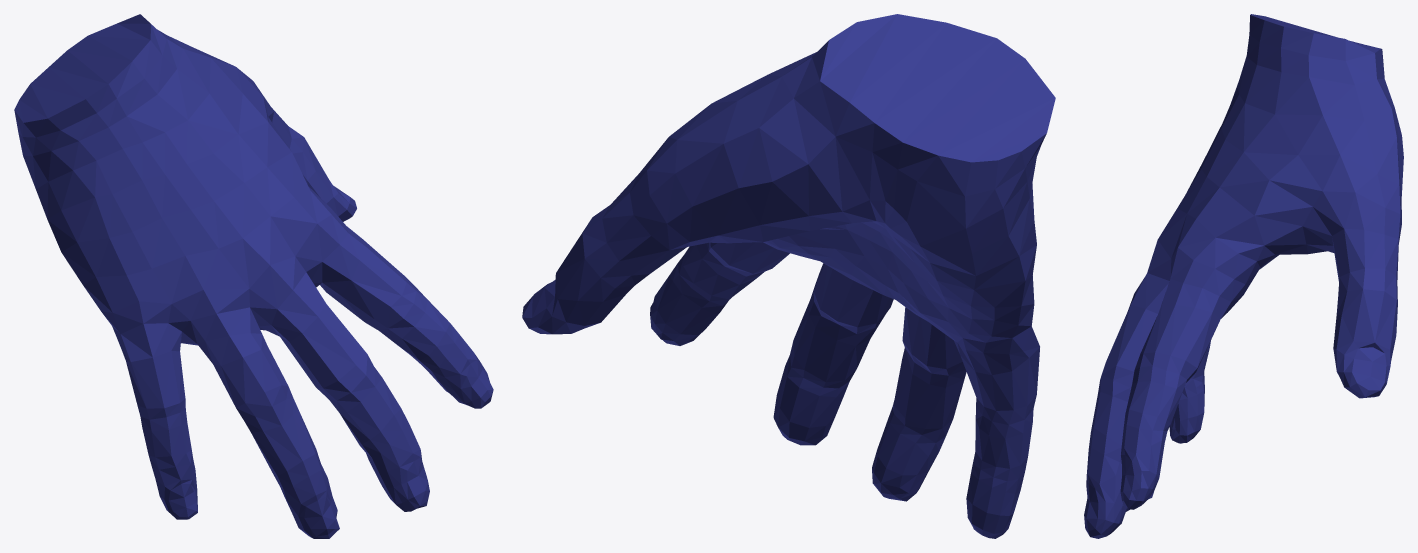
3 renders of one model, left to right at view 1: azimuth 30°, elevation 25°; view 2: azimuth 150°, elevation 25°; view 3: azimuth 270°, elevation 25°, orthographic. The views are drawn at different scales.
Bounding box in the file's own units: 0.1457 × 0.1646 × 0.107.
